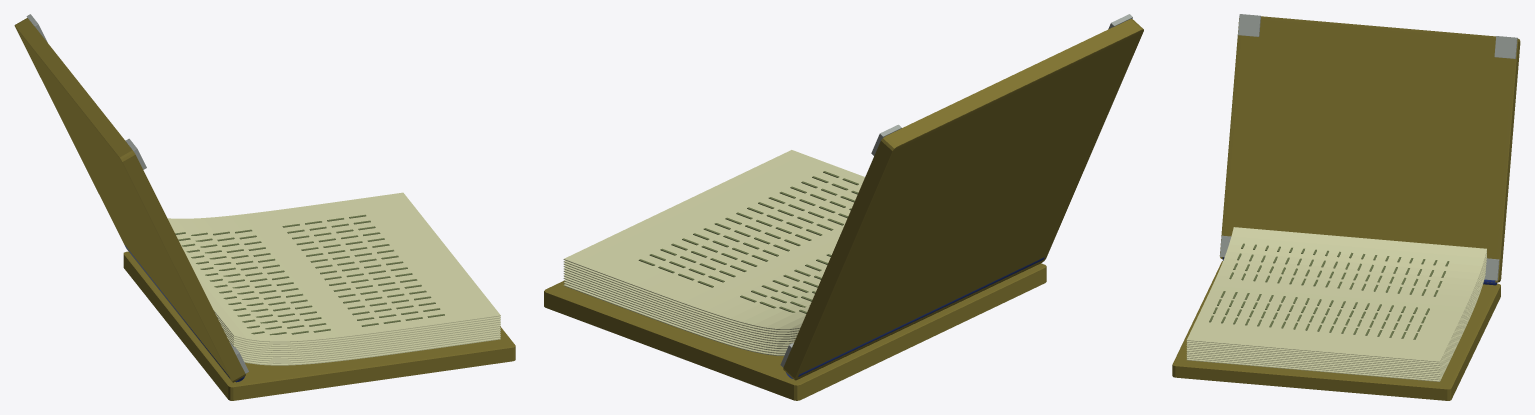
The picture shows the model from 3 angles, left to right: view 1: azimuth 30°, elevation 25°; view 2: azimuth 150°, elevation 25°; view 3: azimuth 270°, elevation 25°; orthographic projection. The views are drawn at different scales.
Parts seen in each view (by area): view 1: TI101 / separate curved paper leaf 11, TI101 / separate folio front cover, TI101 / lower leather cover, TI101 / separate curved paper leaf 10, TI101 / separate curved paper leaf 9, TI101 / separate curved paper leaf 8, TI101 / separate curved paper leaf 7, TI101 / separate curved paper leaf 6, TI101 / separate curved paper leaf 5, TI101 / separate curved paper leaf 3, TI101 / separate curved paper leaf 2, TI101 / separate curved paper leaf 4 (+2 smaller); view 2: TI101 / separate folio front cover, TI101 / separate curved paper leaf 11, TI101 / lower leather cover, TI101 / separate curved paper leaf 8, TI101 / separate curved paper leaf 9, TI101 / separate curved paper leaf 10, TI101 / separate curved paper leaf 7, TI101 / blue cloth binding, TI101 / separate curved paper leaf 6, TI101 / separate curved paper leaf 5, TI101 / separate curved paper leaf 4, TI101 / separate curved paper leaf 3 (+3 smaller); view 3: TI101 / separate folio front cover, TI101 / separate curved paper leaf 11, TI101 / lower leather cover, TI101 / separate curved paper leaf 3, TI101 / separate curved paper leaf 7, TI101 / separate curved paper leaf 4, TI101 / separate curved paper leaf 8, TI101 / separate curved paper leaf 9, TI101 / separate curved paper leaf 0, TI101 / separate curved paper leaf 10, TI101 / separate curved paper leaf 6, TI101 / separate curved paper leaf 5 (+4 smaller).
Boxes of the visible parts, <box> form: TI101 / separate curved paper leaf 11: <box>167,192,500,342</box>; TI101 / separate folio front cover: <box>14,18,245,382</box>; TI101 / lower leather cover: <box>123,251,515,400</box>; TI101 / separate curved paper leaf 10: <box>215,313,500,344</box>; TI101 / separate curved paper leaf 9: <box>218,318,500,346</box>; TI101 / separate curved paper leaf 8: <box>221,320,500,348</box>; TI101 / separate curved paper leaf 7: <box>224,322,500,350</box>; TI101 / separate curved paper leaf 6: <box>227,324,500,352</box>; TI101 / separate curved paper leaf 5: <box>229,327,500,354</box>; TI101 / separate curved paper leaf 3: <box>240,331,500,359</box>; TI101 / separate curved paper leaf 2: <box>241,333,500,361</box>; TI101 / separate curved paper leaf 4: <box>238,329,500,357</box>; TI101 / separate folio front cover: <box>783,19,1143,380</box>; TI101 / separate curved paper leaf 11: <box>563,150,864,329</box>; TI101 / lower leather cover: <box>544,263,1046,400</box>; TI101 / separate curved paper leaf 8: <box>563,265,797,337</box>; TI101 / separate curved paper leaf 9: <box>563,263,798,334</box>; TI101 / separate curved paper leaf 10: <box>563,260,799,332</box>; TI101 / separate curved paper leaf 7: <box>563,267,796,339</box>; TI101 / blue cloth binding: <box>786,257,1044,378</box>; TI101 / separate curved paper leaf 6: <box>563,270,795,341</box>; TI101 / separate curved paper leaf 5: <box>563,272,794,344</box>; TI101 / separate curved paper leaf 4: <box>563,275,789,346</box>; TI101 / separate curved paper leaf 3: <box>563,277,787,348</box>; TI101 / separate folio front cover: <box>1219,16,1520,282</box>; TI101 / separate curved paper leaf 11: <box>1186,227,1486,362</box>; TI101 / lower leather cover: <box>1172,261,1500,400</box>; TI101 / separate curved paper leaf 3: <box>1186,266,1486,376</box>; TI101 / separate curved paper leaf 7: <box>1186,256,1486,369</box>; TI101 / separate curved paper leaf 4: <box>1186,264,1486,374</box>; TI101 / separate curved paper leaf 8: <box>1186,254,1486,367</box>; TI101 / separate curved paper leaf 9: <box>1186,252,1486,365</box>; TI101 / separate curved paper leaf 0: <box>1186,274,1485,381</box>; TI101 / separate curved paper leaf 10: <box>1186,251,1486,364</box>; TI101 / separate curved paper leaf 6: <box>1186,258,1486,371</box>; TI101 / separate curved paper leaf 5: <box>1186,261,1486,372</box>.
Bounding box in the file's own units: 2.45 × 1.51 × 2.13.
